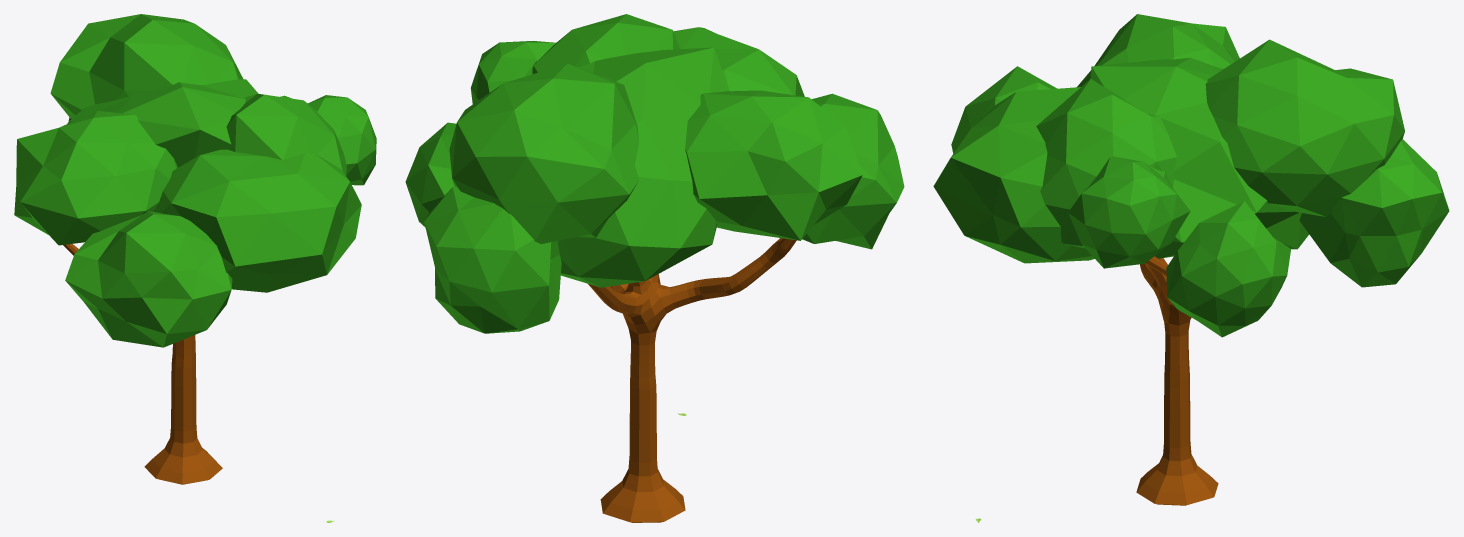
The model's file is tree.glb.
3 renders of one model, left to right at view 1: azimuth 30°, elevation 25°; view 2: azimuth 150°, elevation 25°; view 3: azimuth 270°, elevation 25°, orthographic. The views are drawn at different scales.
Parts seen in each view (by area): view 1: Plane; view 2: Plane; view 3: Plane.
Part boxes in pixels (left/top/right/bottom): Plane: left=14, top=14, right=376, bottom=484; Plane: left=405, top=14, right=904, bottom=522; Plane: left=933, top=14, right=1449, bottom=505.
Size of the model in its own units: 9.16 by 10.21 by 10.67.
2 materials, 1 textured.
